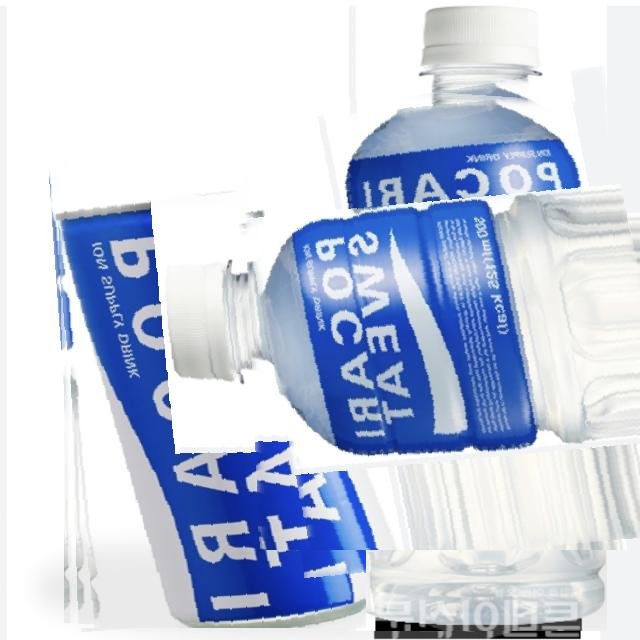recyclable: (239, 79, 640, 550), (56, 144, 366, 628)
